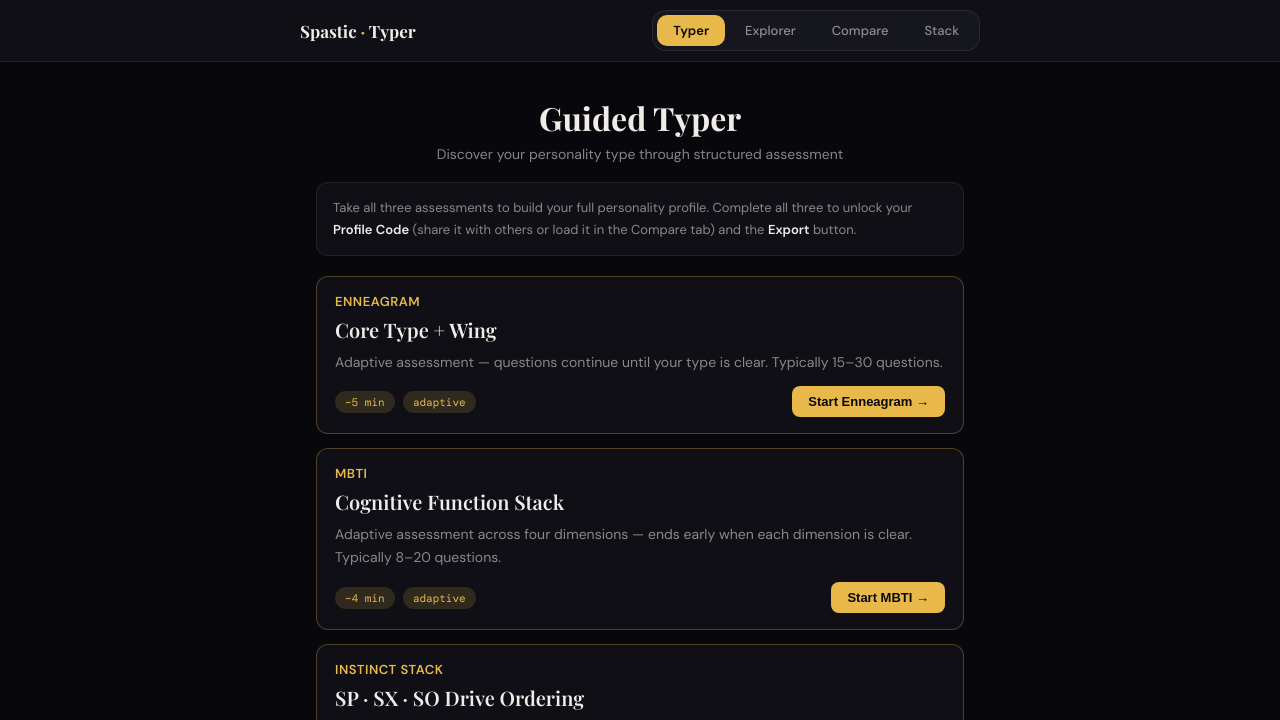
Test case: Navigation — tabs › switches to Compare view
The image size is (1280, 720).
Click the button "Compare" at (860, 30), box [816,15,904,46]
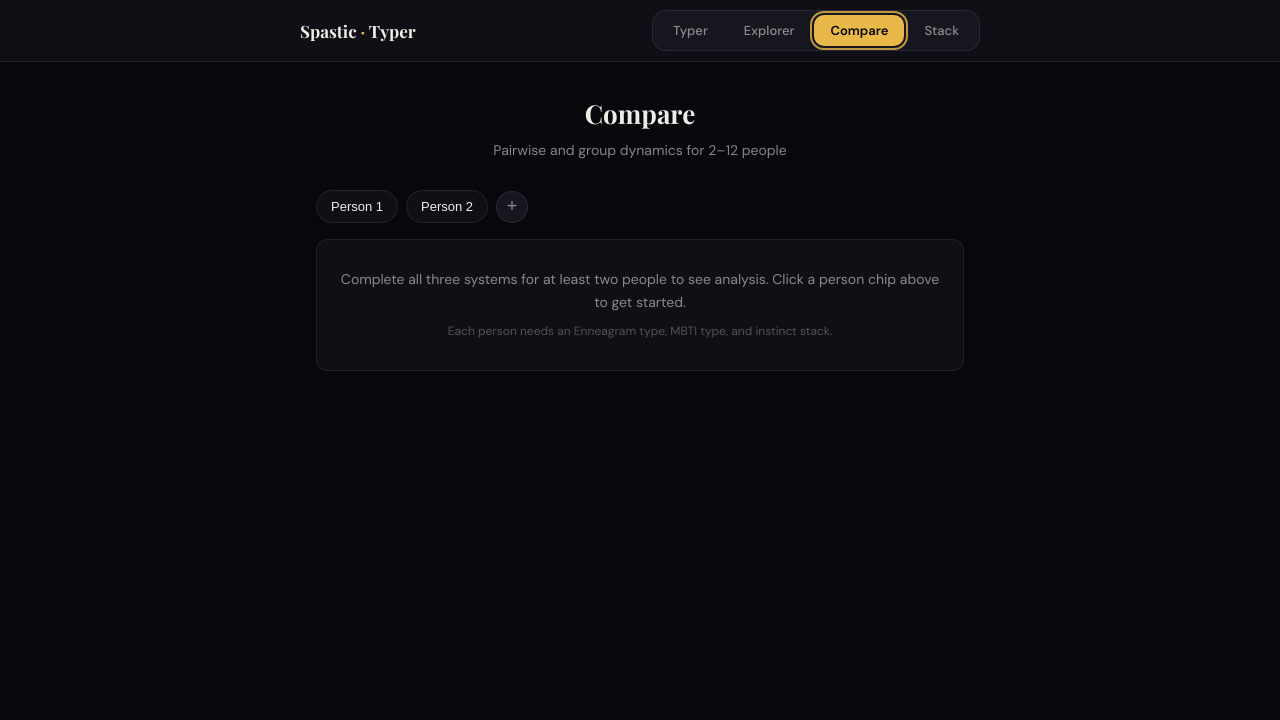
Now the heading "Compare" is shown, box [585,96,695,131]
